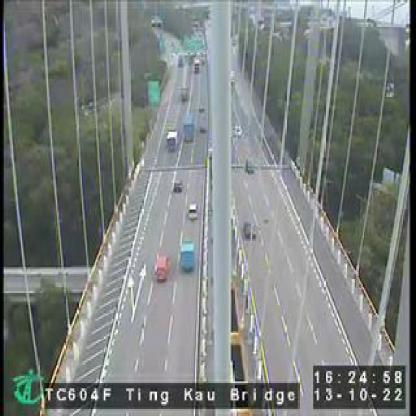Car: (154, 254, 170, 282), (244, 220, 257, 241), (173, 178, 184, 194), (245, 160, 256, 176), (188, 204, 197, 220), (235, 126, 244, 138)
Truck: (180, 238, 195, 274), (183, 118, 196, 144), (166, 126, 180, 150), (180, 86, 189, 101)
